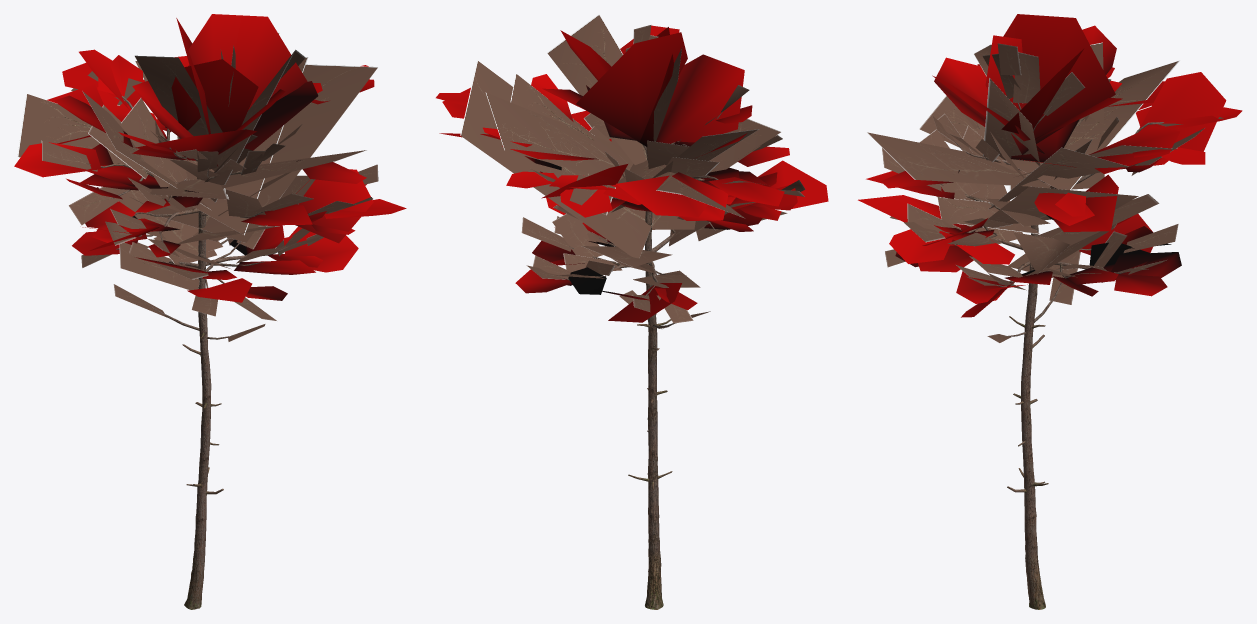
The model's file is Tree_03_Vertex.FBX.
3 views of the same model, side by side, from view 1: azimuth 30°, elevation 25°; view 2: azimuth 150°, elevation 25°; view 3: azimuth 270°, elevation 25° (orthographic). The views are drawn at different scales.
Visible parts, largest first — view 1: Thorn, Branches, Trunk_LOD0; view 2: Thorn, Branches, Trunk_LOD0; view 3: Thorn, Branches, Trunk_LOD0.
Part boxes in pixels (x1,y1,x2,y2): Thorn: (14,14,406,302); Branches: (17,33,378,341); Trunk_LOD0: (86,96,287,609); Thorn: (436,25,828,322); Branches: (460,14,805,328); Trunk_LOD0: (560,111,752,609); Thorn: (858,14,1242,317); Branches: (867,42,1223,342); Trunk_LOD0: (938,90,1163,609).
Size of the model in its own units: 1487 by 2340 by 1389.
